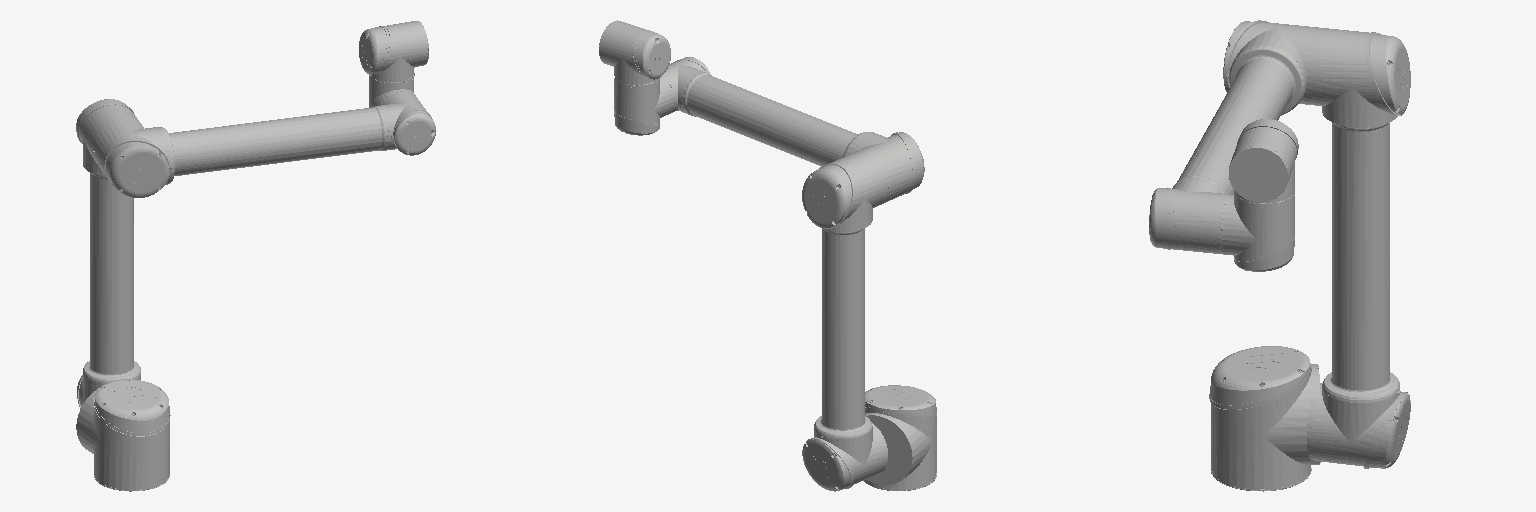
URDF robot description (panther_urdf):
<?xml version="1.0" encoding="utf-8"?>
<!-- This URDF was automatically created by SolidWorks to URDF Exporter! Originally created by [author] ([email redacted]) 
     Commit Version: 1.6.0-4-g7f85cfe  Build Version: 1.6.7995.38578
     For more information, please see http://wiki.ros.org/sw_urdf_exporter -->
<robot
  name="panther_urdf">
  <link
    name="base_link">
    <inertial>
      <origin
        xyz="0.00047471596277756 6.93145970603881E-06 0.0184356040161808"
        rpy="0 0 0" />
      <mass
        value="0.709508215614969" />
      <inertia
        ixx="0.0011478116985688"
        ixy="-4.68221897322115E-08"
        ixz="-2.94406358458754E-07"
        iyy="0.00117554092618515"
        iyz="7.86804297849271E-08"
        izz="0.00215046347527902" />
    </inertial>
    <visual>
      <origin
        xyz="0 0 0"
        rpy="0 0 0" />
      <geometry>
        <mesh
          filename="package://panther_urdf/meshes/base_link.STL" />
      </geometry>
      <material
        name="">
        <color
          rgba="0.756862745098039 0.768627450980392 0.752941176470588 1" />
      </material>
    </visual>
    <collision>
      <origin
        xyz="0 0 0"
        rpy="0 0 0" />
      <geometry>
        <mesh
          filename="package://panther_urdf/meshes/base_link.STL" />
      </geometry>
    </collision>
  </link>
  <link
    name="forearm_link">
    <inertial>
      <origin
        xyz="0.00235418490933147 0.00857255002587695 0.124469858531248"
        rpy="0 0 0" />
      <mass
        value="3.43106158144225" />
      <inertia
        ixx="0.0111168711265614"
        ixy="-0.000168802691735969"
        ixz="-0.000299496536540626"
        iyy="0.0105485377979032"
        iyz="-0.00109085926242037"
        izz="0.0108719292330829" />
    </inertial>
    <visual>
      <origin
        xyz="0 0 0"
        rpy="0 0 0" />
      <geometry>
        <mesh
          filename="package://panther_urdf/meshes/forearm_link.STL" />
      </geometry>
      <material
        name="">
        <color
          rgba="0.756862745098039 0.768627450980392 0.752941176470588 1" />
      </material>
    </visual>
    <collision>
      <origin
        xyz="0 0 0"
        rpy="0 0 0" />
      <geometry>
        <mesh
          filename="package://panther_urdf/meshes/forearm_link.STL" />
      </geometry>
    </collision>
  </link>
  <joint
    name="elbow_joint"
    type="revolute">
    <origin
      xyz="0 0 0"
      rpy="0 0 0" />
    <parent
      link="base_link" />
    <child
      link="forearm_link" />
    <axis
      xyz="0 0 1" />
    <limit
      lower="0"
      upper="3.142"
      effort="300"
      velocity="3" />
  </joint>
  <link
    name="upper_arm_link">
    <inertial>
      <origin
        xyz="2.6374222194897E-05 0.288028213736374 0.0640812802262588"
        rpy="0 0 0" />
      <mass
        value="5.76598845768885" />
      <inertia
        ixx="0.0535931655303002"
        ixy="-1.33847189669432E-05"
        ixz="4.93622585737066E-06"
        iyy="0.00779524275661101"
        iyz="2.32856181880412E-07"
        izz="0.0538768005868116" />
    </inertial>
    <visual>
      <origin
        xyz="0 0 0"
        rpy="0 0 0" />
      <geometry>
        <mesh
          filename="package://panther_urdf/meshes/upper_arm_link.STL" />
      </geometry>
      <material
        name="">
        <color
          rgba="0.756862745098039 0.768627450980392 0.752941176470588 1" />
      </material>
    </visual>
    <collision>
      <origin
        xyz="0 0 0"
        rpy="0 0 0" />
      <geometry>
        <mesh
          filename="package://panther_urdf/meshes/upper_arm_link.STL" />
      </geometry>
    </collision>
  </link>
  <joint
    name="shoulder_lift_joint"
    type="revolute">
    <origin
      xyz="0.0573482780233897 0.208897776409476 0.130478612153435"
      rpy="1.5707963267949 0 -0.26792729552756" />
    <parent
      link="forearm_link" />
    <child
      link="upper_arm_link" />
    <axis
      xyz="0 0 -1" />
    <limit
      lower="-1.57"
      upper="1.57"
      effort="200"
      velocity="3" />
  </joint>
  <link
    name="shoulder_link">
    <inertial>
      <origin
        xyz="0.24625690700553 0.00038791510590841 -0.0649023731311411"
        rpy="0 0 0" />
      <mass
        value="4.97837026325909" />
      <inertia
        ixx="0.00585035770850532"
        ixy="6.63685228053646E-09"
        ixz="-0.000200012242224393"
        iyy="0.051561915293179"
        iyz="-1.52612804186033E-08"
        izz="0.0517818287178346" />
    </inertial>
    <visual>
      <origin
        xyz="0 0 0"
        rpy="0 0 0" />
      <geometry>
        <mesh
          filename="package://panther_urdf/meshes/shoulder_link.STL" />
      </geometry>
      <material
        name="">
        <color
          rgba="0.756862745098039 0.768627450980392 0.752941176470588 1" />
      </material>
    </visual>
    <collision>
      <origin
        xyz="0 0 0"
        rpy="0 0 0" />
      <geometry>
        <mesh
          filename="package://panther_urdf/meshes/shoulder_link.STL" />
      </geometry>
    </collision>
  </link>
  <joint
    name="shoulder_pan_joint"
    type="revolute">
    <origin
      xyz="0.0130528773762752 0.581033387846565 0.254748304369017"
      rpy="0 0.0347928578488272 0" />
    <parent
      link="upper_arm_link" />
    <child
      link="shoulder_link" />
    <axis
      xyz="0 0 -1" />
    <limit
      lower="-1.57"
      upper="1.57"
      effort="200"
      velocity="3" />
  </joint>
  <link
    name="wrist_1_link">
    <inertial>
      <origin
        xyz="0.0387570008333681 0.00321228579265564 -0.161064934873586"
        rpy="0 0 0" />
      <mass
        value="0.838415771688282" />
      <inertia
        ixx="0.00103392576544764"
        ixy="-3.03375319327428E-05"
        ixz="1.6347965728039E-05"
        iyy="0.000964399212835615"
        iyz="0.000127738626625048"
        izz="0.000968948432078433" />
    </inertial>
    <visual>
      <origin
        xyz="0 0 0"
        rpy="0 0 0" />
      <geometry>
        <mesh
          filename="package://panther_urdf/meshes/wrist_1_link.STL" />
      </geometry>
      <material
        name="">
        <color
          rgba="0.756862745098039 0.768627450980392 0.752941176470588 1" />
      </material>
    </visual>
    <collision>
      <origin
        xyz="0 0 0"
        rpy="0 0 0" />
      <geometry>
        <mesh
          filename="package://panther_urdf/meshes/wrist_1_link.STL" />
      </geometry>
    </collision>
  </link>
  <joint
    name="wrist_1_joint"
    type="revolute">
    <origin
      xyz="0.564743829482923 0.000387999999999833 -0.00907155684199412"
      rpy="0 0.233134437678733 0" />
    <parent
      link="shoulder_link" />
    <child
      link="wrist_1_link" />
    <axis
      xyz="-0.231028295268486 0 0.972947031849801" />
    <limit
      lower="-1.57"
      upper="1.57"
      effort="200"
      velocity="3" />
  </joint>
  <link
    name="wrist_2_link">
    <inertial>
      <origin
        xyz="0.00340385985301095 0.000485245565873177 0.165853929608396"
        rpy="0 0 0" />
      <mass
        value="0.838415772574633" />
      <inertia
        ixx="0.00096591824106628"
        ixy="1.04503232632636E-05"
        ixz="-0.000129924206136089"
        iyy="0.00103628698163325"
        iyz="1.88987381158496E-05"
        izz="0.000965067812306471" />
    </inertial>
    <visual>
      <origin
        xyz="0 0 0"
        rpy="0 0 0" />
      <geometry>
        <mesh
          filename="package://panther_urdf/meshes/wrist_2_link.STL" />
      </geometry>
      <material
        name="">
        <color
          rgba="0.756862745098039 0.768627450980392 0.752941176470588 1" />
      </material>
    </visual>
    <collision>
      <origin
        xyz="0 0 0"
        rpy="0 0 0" />
      <geometry>
        <mesh
          filename="package://panther_urdf/meshes/wrist_2_link.STL" />
      </geometry>
    </collision>
  </link>
  <joint
    name="wrist_2_joint"
    type="revolute">
    <origin
      xyz="0.0398550122506154 -0.0558801281680077 -0.165688442967764"
      rpy="-1.5707963267949 0 0" />
    <parent
      link="wrist_1_link" />
    <child
      link="wrist_2_link" />
    <axis
      xyz="0 0 -1" />
    <limit
      lower="-1.57"
      upper="1.57"
      effort="100"
      velocity="2" />
  </joint>
  <link
    name="wrist_3_link">
    <inertial>
      <origin
        xyz="0.000179864158414075 -4.49521605809799E-05 -0.130619959648333"
        rpy="0 0 0" />
      <mass
        value="0.159318682448643" />
      <inertia
        ixx="8.22388813747915E-05"
        ixy="1.07233996620026E-06"
        ixz="8.72788824078102E-08"
        iyy="8.75708463879807E-05"
        iyz="4.50955551179857E-07"
        izz="0.000149755723758847" />
    </inertial>
    <visual>
      <origin
        xyz="0 0 0"
        rpy="0 0 0" />
      <geometry>
        <mesh
          filename="package://panther_urdf/meshes/wrist_3_link.STL" />
      </geometry>
      <material
        name="">
        <color
          rgba="0.756862745098039 0.768627450980392 0.752941176470588 1" />
      </material>
    </visual>
    <collision>
      <origin
        xyz="0 0 0"
        rpy="0 0 0" />
      <geometry>
        <mesh
          filename="package://panther_urdf/meshes/wrist_3_link.STL" />
      </geometry>
    </collision>
  </link>
  <joint
    name="wrist_3_joint"
    type="revolute">
    <origin
      xyz="-0.0550732044088081 0.00899090628559696 0.170606030818962"
      rpy="-1.5707963267949 0 1.4263586520871" />
    <parent
      link="wrist_2_link" />
    <child
      link="wrist_3_link" />
    <axis
      xyz="0 0 1" />
    <limit
      lower="0"
      upper="3.142"
      effort="50"
      velocity="2" />
  </joint>
</robot>

--- What the picture shows (computed from the rendered views, not written in the file) ---
The picture shows the robot from 3 angles, left to right: view 1: azimuth 30°, elevation 25°; view 2: azimuth 150°, elevation 25°; view 3: azimuth 270°, elevation 25°; orthographic projection.
Robot: panther_urdf — 7 links, 6 joints (6 revolute); root link base_link; default pose: every joint at zero.
Links seen in each view (by area): view 1: shoulder_link, upper_arm_link, forearm_link, wrist_2_link, wrist_1_link; view 2: upper_arm_link, shoulder_link, forearm_link, wrist_2_link, wrist_1_link; view 3: upper_arm_link, shoulder_link, forearm_link, wrist_2_link, wrist_1_link.
Link boxes in pixels (bbox=[...]): shoulder_link: bbox=[93, 91, 435, 197]; upper_arm_link: bbox=[76, 99, 143, 408]; forearm_link: bbox=[76, 379, 170, 491]; wrist_2_link: bbox=[359, 21, 428, 81]; wrist_1_link: bbox=[369, 73, 415, 107]; upper_arm_link: bbox=[802, 151, 887, 491]; shoulder_link: bbox=[661, 57, 924, 204]; forearm_link: bbox=[864, 385, 936, 490]; wrist_2_link: bbox=[599, 20, 670, 84]; wrist_1_link: bbox=[614, 77, 672, 135]; upper_arm_link: bbox=[1307, 28, 1410, 468]; shoulder_link: bbox=[1149, 20, 1318, 254]; forearm_link: bbox=[1209, 346, 1320, 491]; wrist_2_link: bbox=[1229, 119, 1298, 202]; wrist_1_link: bbox=[1222, 192, 1294, 271].
Bounding box of the posed robot: 0.7406 × 0.389 × 0.8354 m (x, y, z).
5 mesh visuals loaded from 7 distinct referenced files (5 binary STL); not drawn: 2 (reference not matched to a file when rendering).